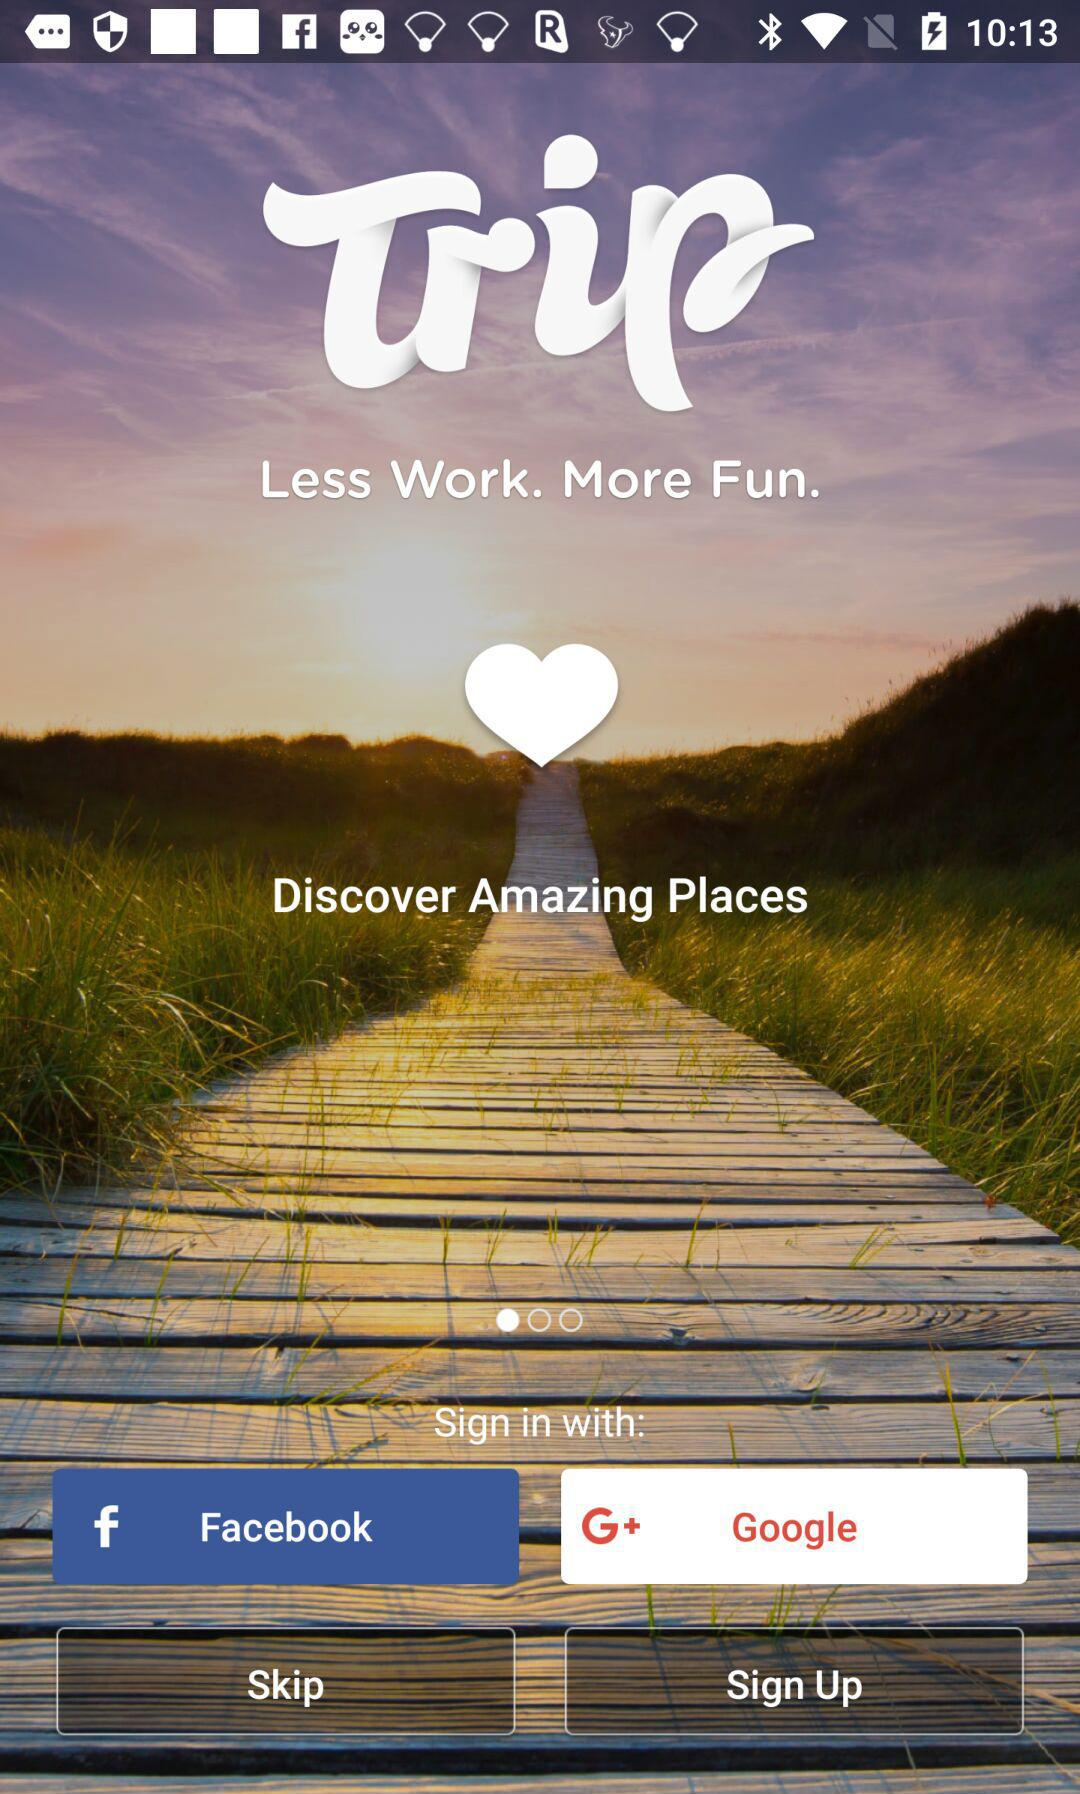BackgroundImage: (1, 64, 1080, 1794)
Icon: (465, 643, 619, 769)
Image: (263, 133, 816, 414)
PageIndicator: (434, 1406, 646, 1447), (495, 1307, 585, 1335)
Text: (274, 876, 808, 924), (263, 457, 820, 501)
TextButton: (54, 1469, 520, 1585), (561, 1469, 1027, 1585), (56, 1626, 516, 1736), (565, 1626, 1024, 1736)
UpperTaskBar: (1, 1, 1080, 64)
